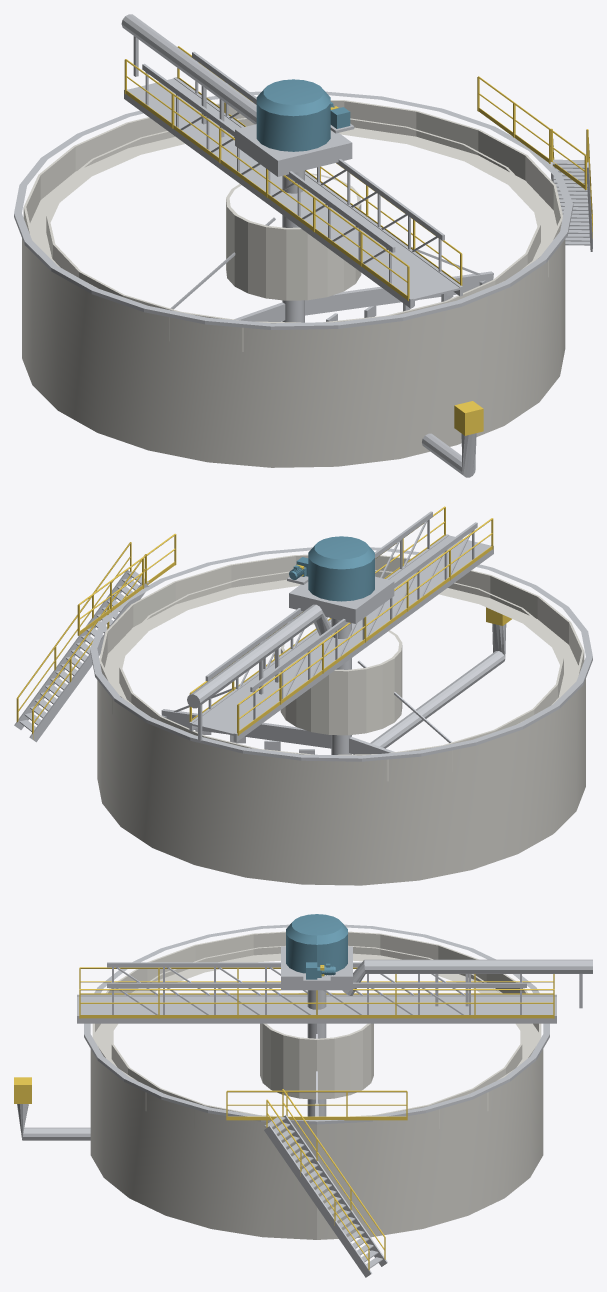
Rendered from ore-processing-and-haulage-plant-thickener-tank-4a9096de.glb.
3 views of the same model, one above another, from view 1: azimuth 30°, elevation 25°; view 2: azimuth 150°, elevation 25°; view 3: azimuth 270°, elevation 25° (orthographic). The views are drawn at different scales.
Visible parts, largest first — view 1: thickener-tank, rake-bridge (×4); view 2: thickener-tank, rake-bridge (×4); view 3: thickener-tank, rake-bridge (×4).
Part boxes in pixels (x1,y1,x2,y2): thickener-tank: (14,14,592,477); rake-bridge (×4): (124,46,493,322); thickener-tank: (14,533,592,885); rake-bridge (×4): (161,506,493,754); thickener-tank: (14,924,592,1277); rake-bridge (×4): (77,914,556,1116).
Size of the model in its own units: 18.53 by 8.1 by 19.3.
